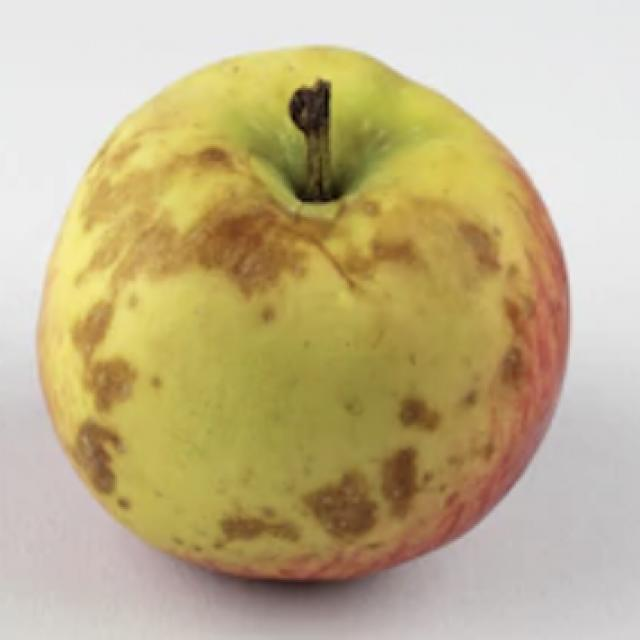Rotten: (37, 44, 563, 584)
